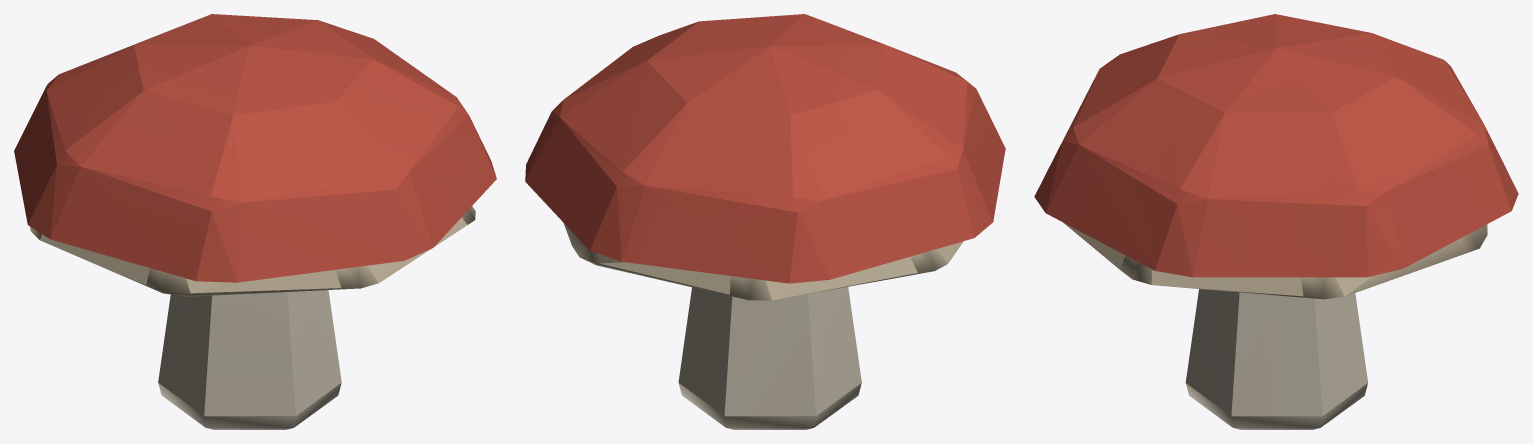
File: prop_toadstoolRed_lod1.glb
The picture shows the model from 3 angles, left to right: view 1: azimuth 30°, elevation 25°; view 2: azimuth 150°, elevation 25°; view 3: azimuth 270°, elevation 25°; orthographic projection.
Parts seen in each view (by area): view 1: prop_toadstoolRed_lod1; view 2: prop_toadstoolRed_lod1; view 3: prop_toadstoolRed_lod1.
Boxes of the visible parts, <box> form: prop_toadstoolRed_lod1: <box>14,14,496,429</box>; prop_toadstoolRed_lod1: <box>525,14,1005,429</box>; prop_toadstoolRed_lod1: <box>1034,14,1518,429</box>.
Bounding box in the file's own units: 0.6155 × 0.51 × 0.6294.
